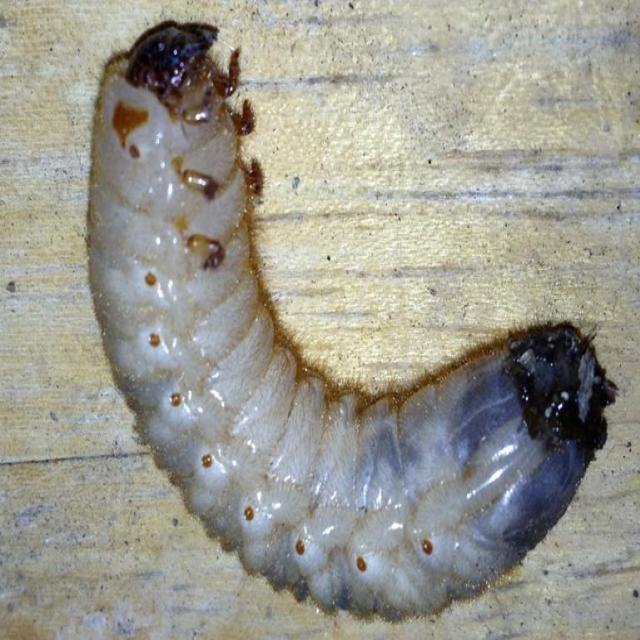Grub-Adult-: (80, 15, 624, 626)
